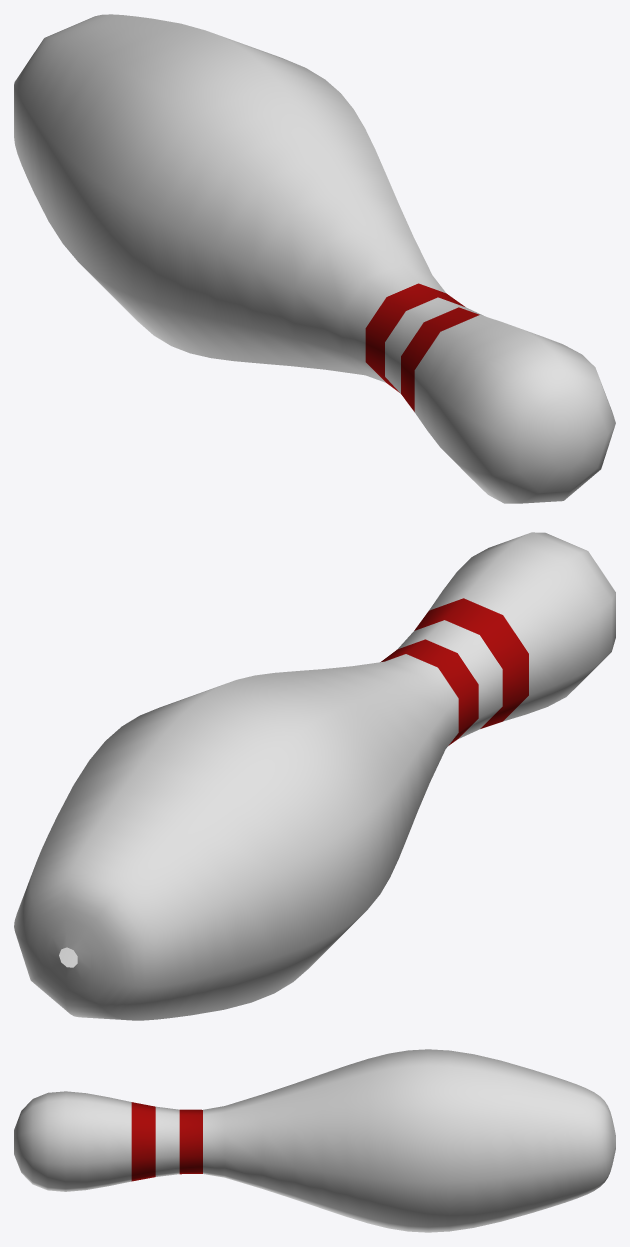
Rendered from Pin.obj.
3 views of the same model, one above another, from view 1: azimuth 30°, elevation 25°; view 2: azimuth 150°, elevation 25°; view 3: azimuth 270°, elevation 25° (orthographic). The views are drawn at different scales.
Visible parts, largest first — view 1: BezierCurve.001_Mesh; view 2: BezierCurve.001_Mesh; view 3: BezierCurve.001_Mesh.
Boxes of the visible parts, box(x1,y1,x2,y2) form: BezierCurve.001_Mesh: box(14, 14, 615, 503); BezierCurve.001_Mesh: box(14, 532, 615, 1020); BezierCurve.001_Mesh: box(14, 1049, 615, 1232).
Size of the model in its own units: 1.15 by 1.16 by 3.81.
